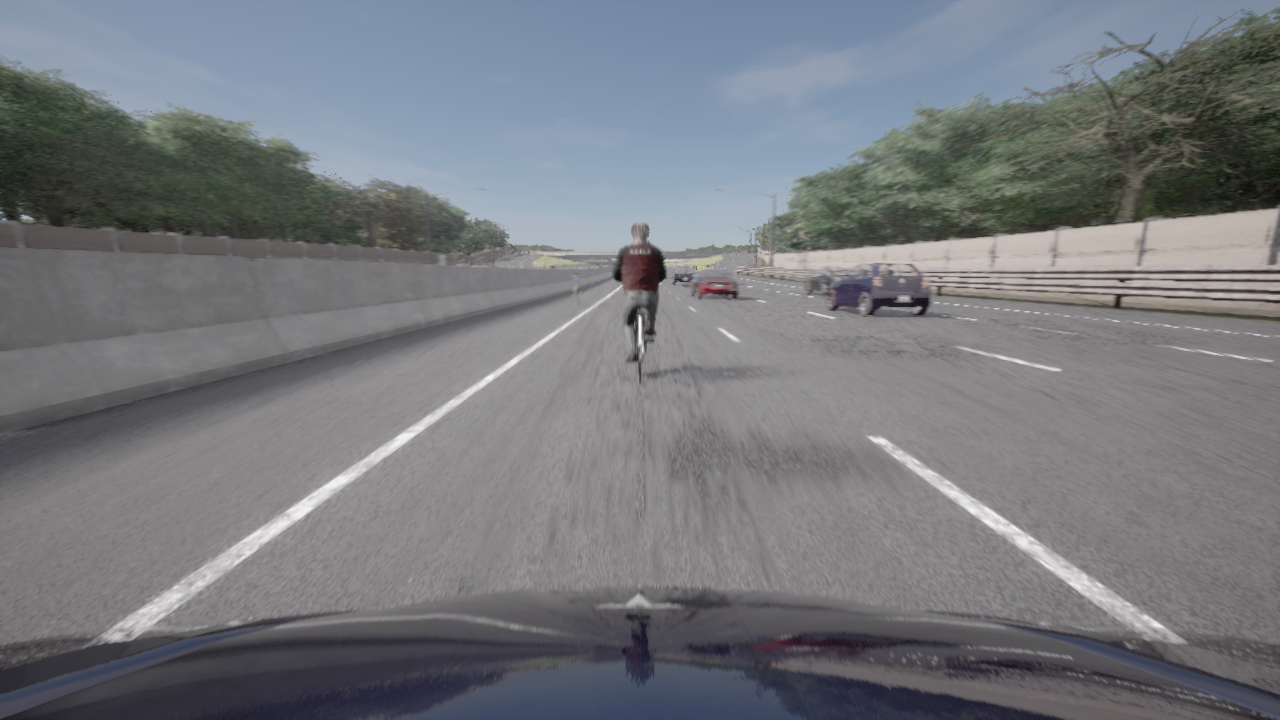cyclist: (0, 588, 1279, 719), (827, 263, 930, 316), (628, 309, 654, 383), (690, 270, 739, 299), (805, 267, 851, 296), (671, 266, 695, 285), (712, 268, 732, 276), (650, 244, 654, 246)
pedestrian: (573, 272, 579, 305)
